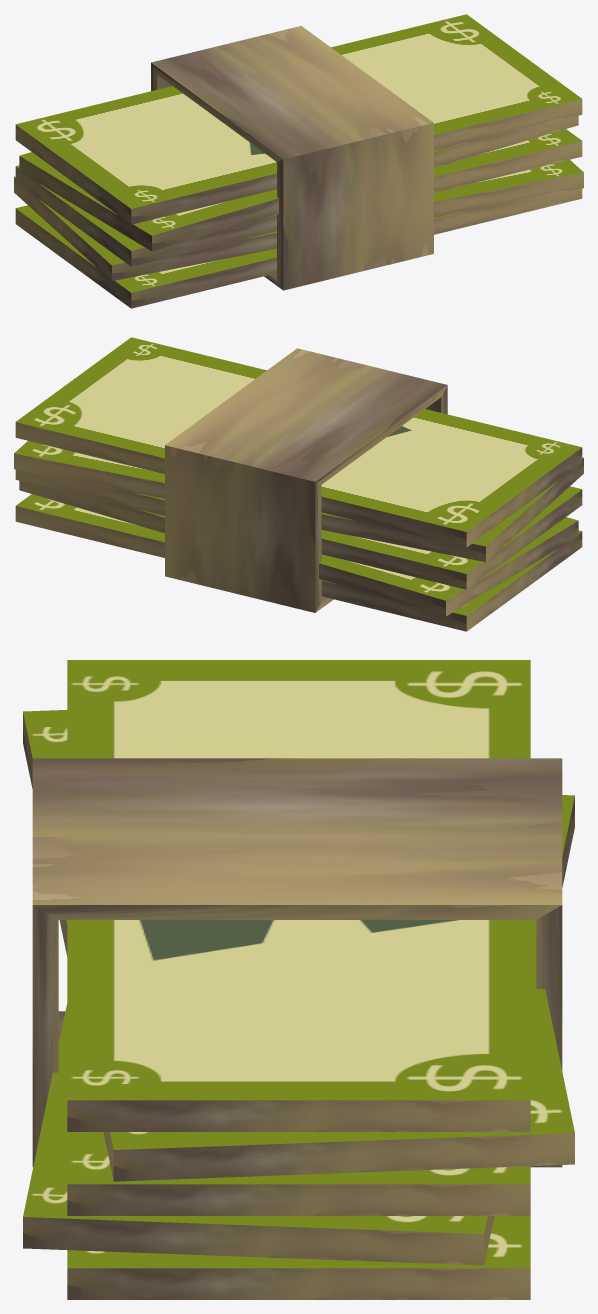
File: dollar-stack.fbx
3 renders of one model, top to bottom at view 1: azimuth 30°, elevation 25°; view 2: azimuth 150°, elevation 25°; view 3: azimuth 270°, elevation 25°, orthographic. The views are drawn at different scales.
Parts seen in each view (by area): view 1: Rubberband, Cube.004, Cube.002, Cube, Cube.001, Cube.003; view 2: Rubberband, Cube.004, Cube, Cube.003, Cube.002, Cube.001; view 3: Cube.004, Rubberband, Cube.003, Cube.001, Cube, Cube.002.
Boxes of the visible parts, x1=… form: Rubberband: x1=151, y1=26, x2=433, y2=290; Cube.004: x1=15, y1=14, x2=582, y2=224; Cube.002: x1=15, y1=129, x2=582, y2=266; Cube: x1=15, y1=188, x2=582, y2=308; Cube.001: x1=14, y1=160, x2=583, y2=280; Cube.003: x1=19, y1=115, x2=578, y2=251; Rubberband: x1=165, y1=348, x2=447, y2=612; Cube.004: x1=15, y1=337, x2=582, y2=547; Cube: x1=15, y1=494, x2=582, y2=631; Cube.003: x1=14, y1=441, x2=583, y2=561; Cube.002: x1=15, y1=469, x2=582, y2=589; Cube.001: x1=19, y1=480, x2=578, y2=616; Cube.004: x1=67, y1=660, x2=530, y2=1131; Rubberband: x1=32, y1=758, x2=562, y2=1167; Cube.003: x1=23, y1=710, x2=574, y2=1181; Cube.001: x1=23, y1=795, x2=574, y2=1265; Cube: x1=67, y1=1216, x2=530, y2=1299; Cube.002: x1=67, y1=1132, x2=530, y2=1215.
Bounding box in the file's own units: 466 × 125 × 238.
